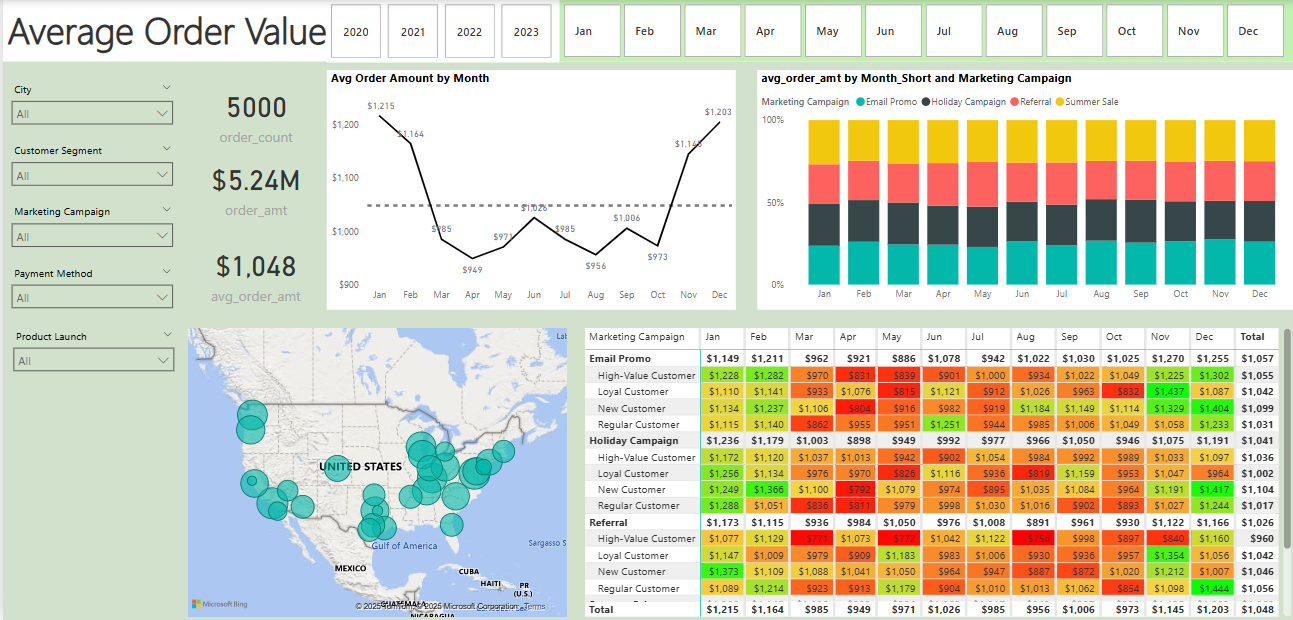

This screenshot's page, from the dashboard's own definition file:
{"tool":"powerbi","page":{"name":"Page 1","canvas":[1500,720],"ordinal":0},"visuals":[{"type":"textbox","box":[0,0,1500,71.7],"z":0},{"type":"slicer","fields":{"Values":["average_order_value_data.City"]},"box":[0,89.6,207.4,71.2],"z":1000},{"type":"slicer","fields":{"Values":["average_order_value_data.Customer Segment"]},"box":[0,160.7,207.4,71.2],"z":2000},{"type":"slicer","fields":{"Values":["average_order_value_data.Marketing Campaign"]},"box":[0,231.9,207.4,71.2],"z":3000},{"type":"slicer","fields":{"Values":["average_order_value_data.Payment Method"]},"box":[0,303.1,207.4,71.2],"z":4000},{"type":"advancedSlicerVisual","fields":{"Values":["Date.Year"]},"box":[376.7,0,269.9,72.4],"z":5000},{"type":"advancedSlicerVisual","fields":{"Values":["Date.Month_Short"]},"box":[646.7,0,853.3,71.7],"z":6000},{"type":"card","fields":{"Values":["average_order_value_data.order_count"]},"box":[208.4,89.7,168.8,85],"z":7000},{"type":"card","fields":{"Values":["average_order_value_data.order_amt"]},"box":[208.4,174.7,168.8,85],"z":8000},{"type":"card","fields":{"Values":["average_order_value_data.avg_order_amt"]},"box":[208.3,275,168.3,85],"z":9000},{"type":"lineChart","title":"Avg Order Amount by Month","fields":{"Y":["average_order_value_data.avg_order_amt"],"Category":["Date.Month_Short"]},"box":[376.7,81.7,475,278.3],"z":10000},{"type":"hundredPercentStackedColumnChart","fields":{"Category":["Date.Month_Short"],"Y":["average_order_value_data.avg_order_amt"],"Series":["average_order_value_data.Marketing Campaign"]},"box":[875,81.7,625,278.3],"z":11000},{"type":"map","fields":{"Category":["average_order_value_data.City"],"Size":["average_order_value_data.avg_order_amt"]},"box":[208.3,375,450,345],"z":12000},{"type":"pivotTable","fields":{"Rows":["average_order_value_data.Marketing Campaign","average_order_value_data.Customer Segment"],"Values":["average_order_value_data.avg_order_amt"],"Columns":["Date.Month_Short"]},"box":[670,375,830,345],"z":13000},{"type":"slicer","fields":{"Values":["average_order_value_data.Product Launch"]},"box":[1.7,375,206.7,71.7],"z":13001}]}

Visuals, with their boxes in screenshot pixels (x1, y1, x2, y2), scaled from the page's 1500x720 canvas onto the 1293x620 screenshot:
textbox: pyautogui.locateOnScreen(0, 0, 1292, 62)
slicer - average_order_value_data.City: pyautogui.locateOnScreen(0, 77, 179, 138)
slicer - average_order_value_data.Customer Segment: pyautogui.locateOnScreen(0, 138, 179, 200)
slicer - average_order_value_data.Marketing Campaign: pyautogui.locateOnScreen(0, 200, 179, 261)
slicer - average_order_value_data.Payment Method: pyautogui.locateOnScreen(0, 261, 179, 322)
advancedSlicerVisual - Date.Year: pyautogui.locateOnScreen(325, 0, 557, 62)
advancedSlicerVisual - Date.Month_Short: pyautogui.locateOnScreen(557, 0, 1292, 62)
card - average_order_value_data.order_count: pyautogui.locateOnScreen(180, 77, 325, 150)
card - average_order_value_data.order_amt: pyautogui.locateOnScreen(180, 150, 325, 224)
card - average_order_value_data.avg_order_amt: pyautogui.locateOnScreen(180, 237, 325, 310)
"Avg Order Amount by Month" lineChart: pyautogui.locateOnScreen(325, 70, 734, 310)
hundredPercentStackedColumnChart - Date.Month_Short x average_order_value_data.avg_order_amt: pyautogui.locateOnScreen(754, 70, 1292, 310)
map - average_order_value_data.City x average_order_value_data.avg_order_amt: pyautogui.locateOnScreen(180, 323, 567, 619)
pivotTable - average_order_value_data.Marketing Campaign x average_order_value_data.Customer Segment: pyautogui.locateOnScreen(578, 323, 1292, 619)
slicer - average_order_value_data.Product Launch: pyautogui.locateOnScreen(1, 323, 180, 385)
